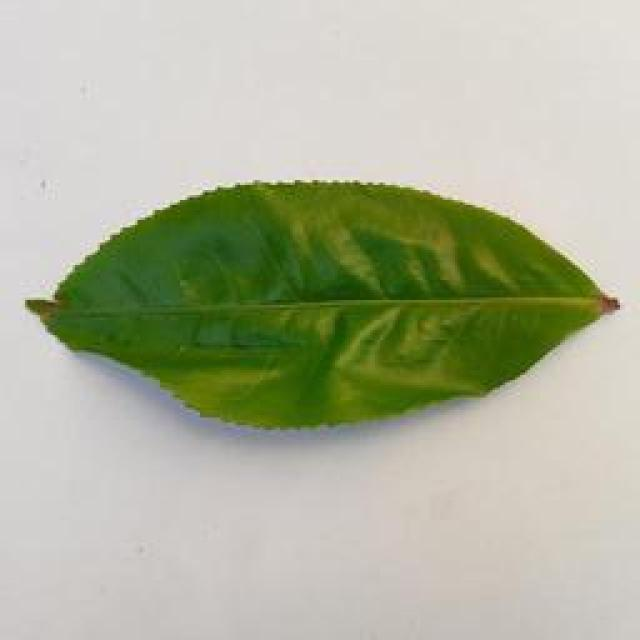Healthy: (30, 168, 622, 432)
